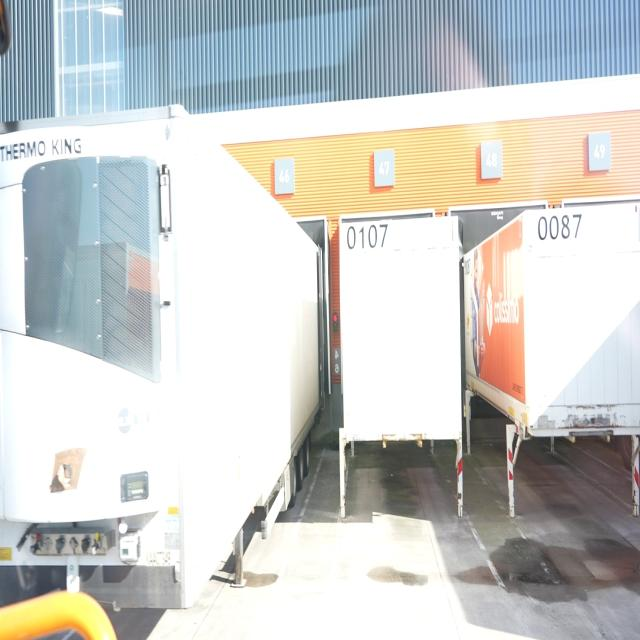Code: (532, 209, 584, 243), (344, 220, 393, 251)
